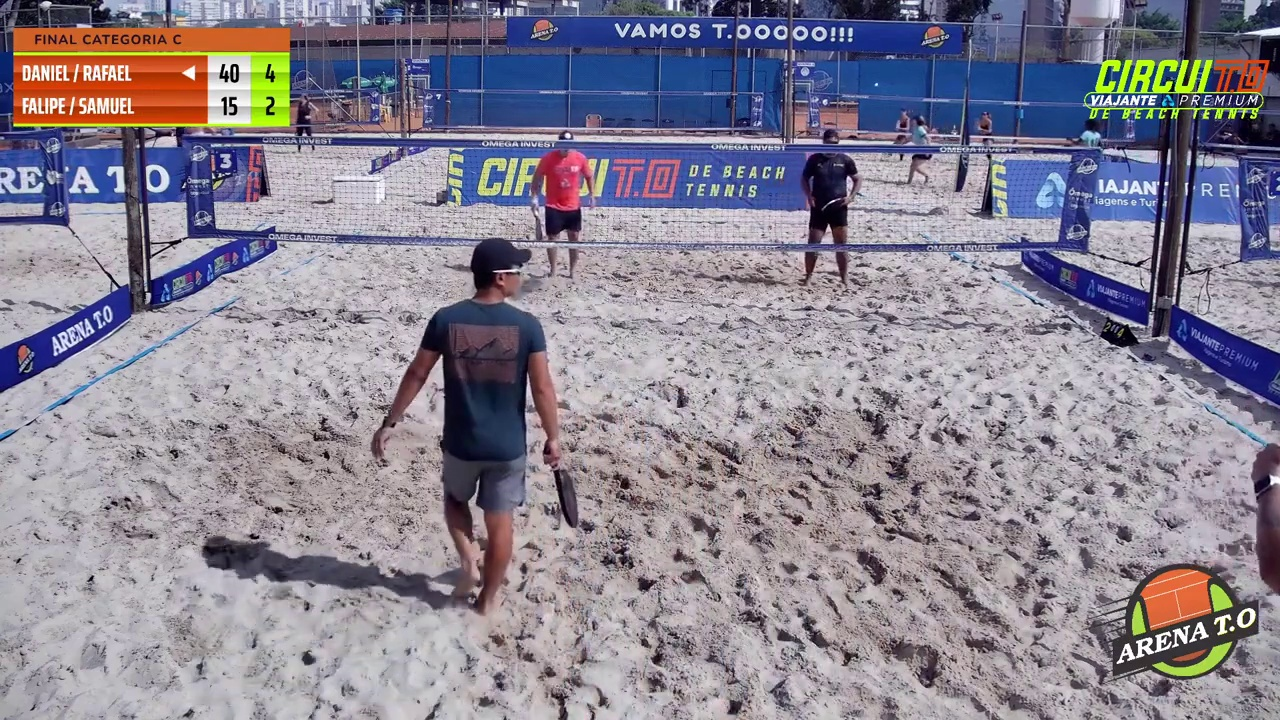court_line: (641, 0, 807, 392)
